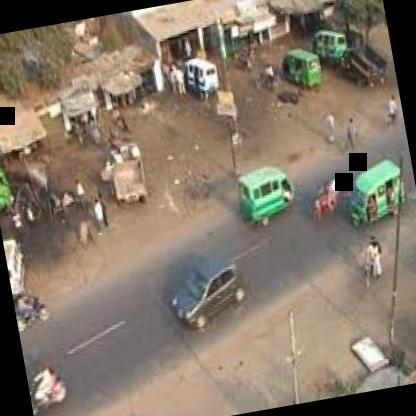car: (139, 228, 259, 334), (221, 156, 310, 244), (347, 160, 416, 236)
